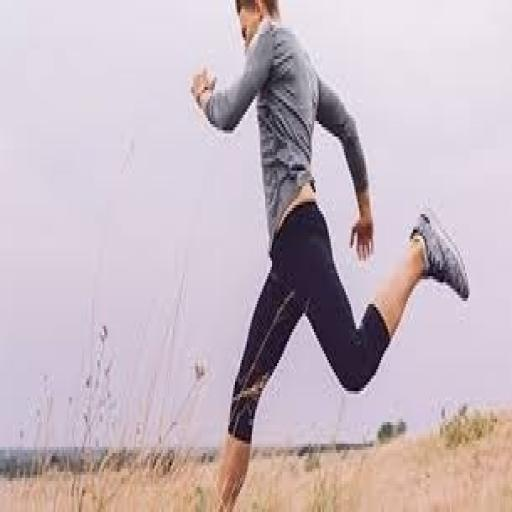running: (186, 0, 474, 509)
